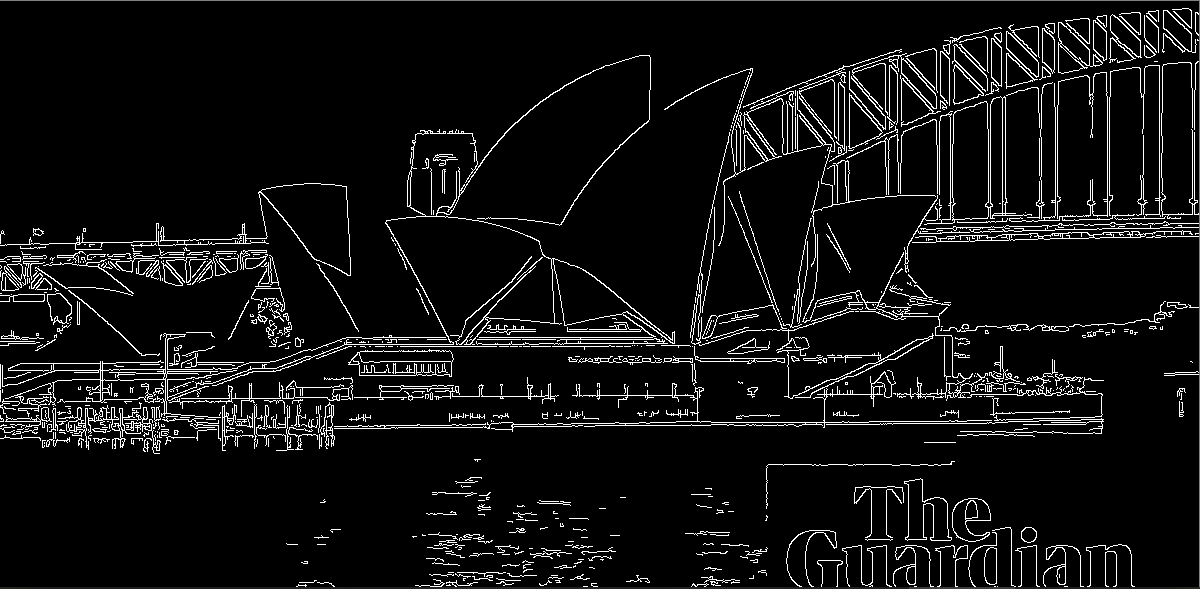opera house: (80, 45, 978, 378)
